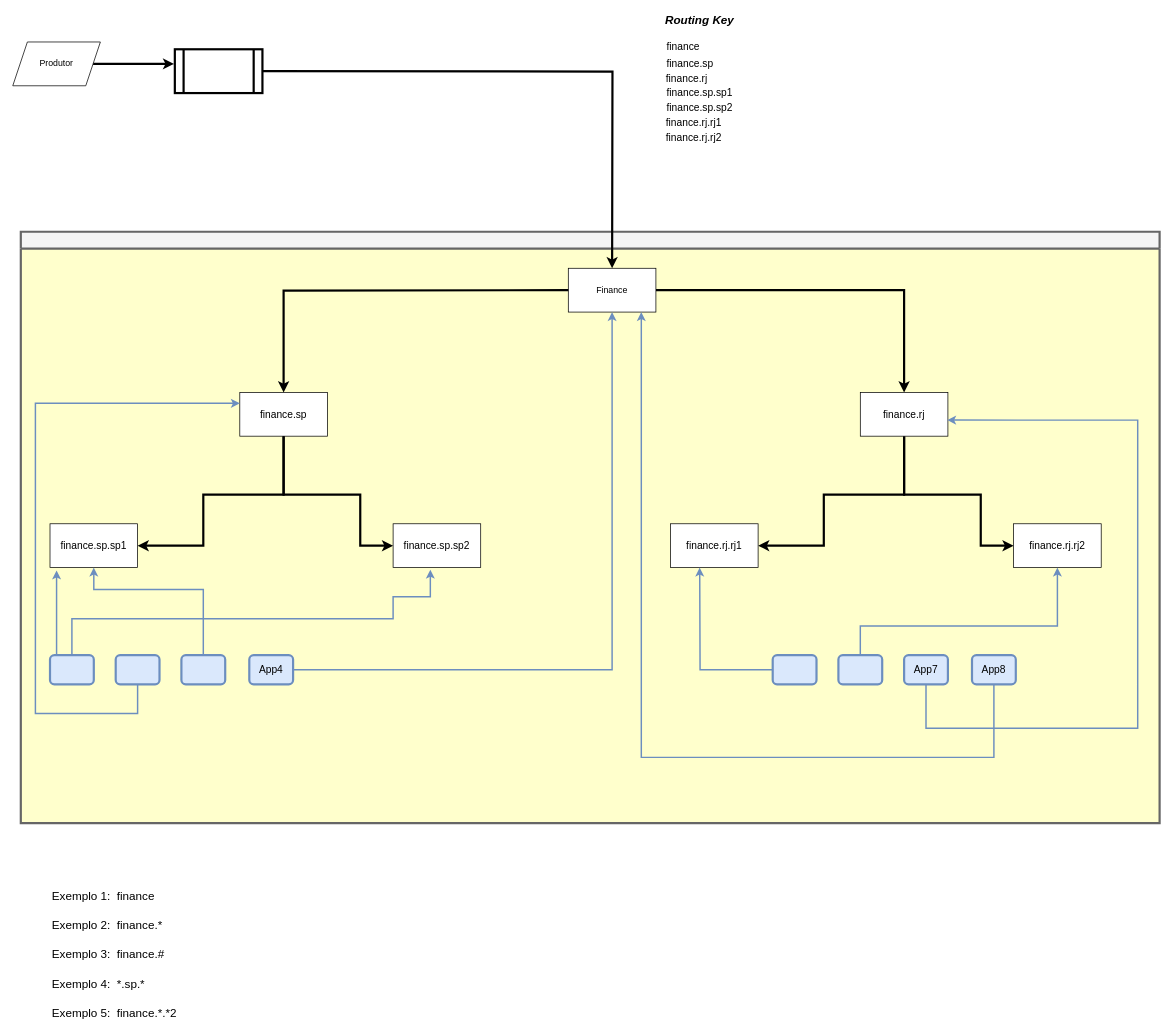
Some shapes in this 1173 by 1032 pixel diagram are drawn without their labels. The centre of each missing label's shape, as x and y in pixels:
"App1" goes at pixel 72 669.
"App2" goes at pixel 137 669.
"App3" goes at pixel 203 669.
"App5" goes at pixel 794 669.
"App6" goes at pixel 860 669.
"Exchange Topic" goes at pixel 218 71.
